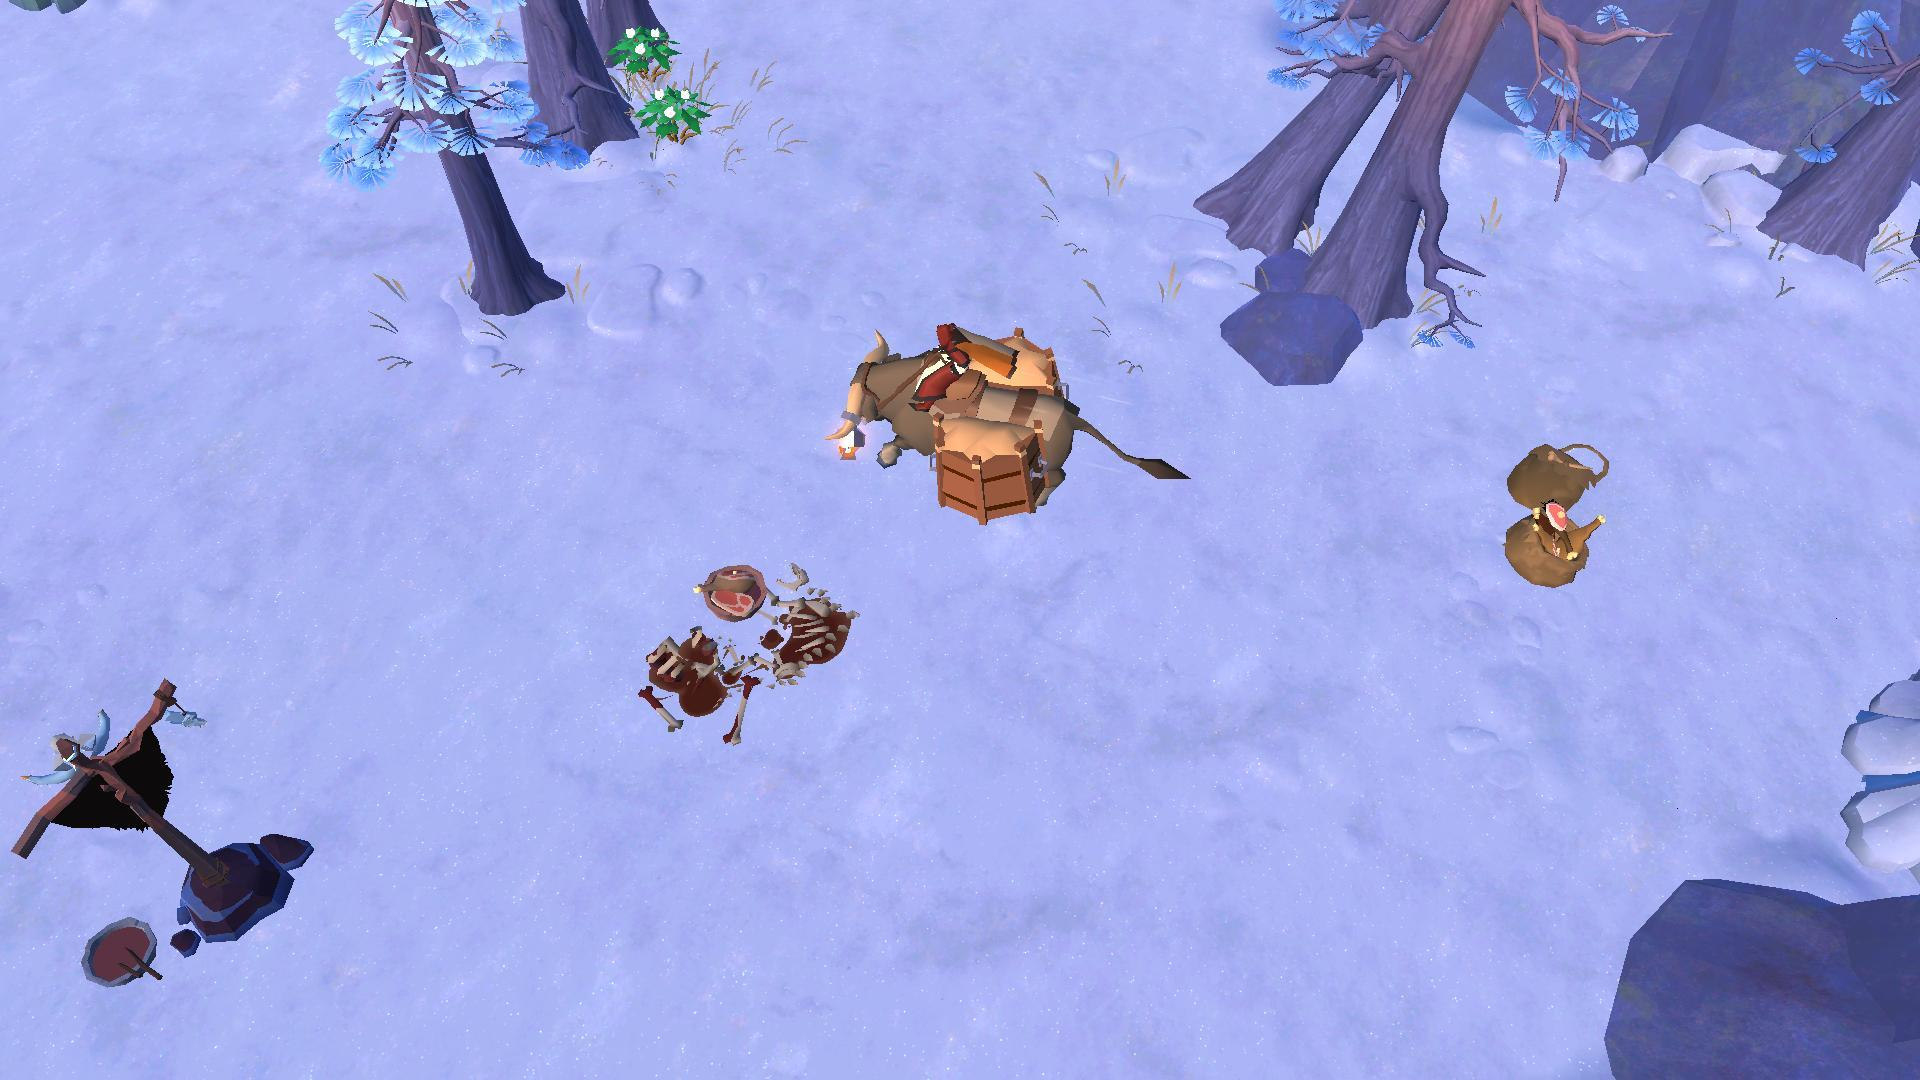fiber_t3: (621, 84, 717, 148), (601, 15, 680, 76)
